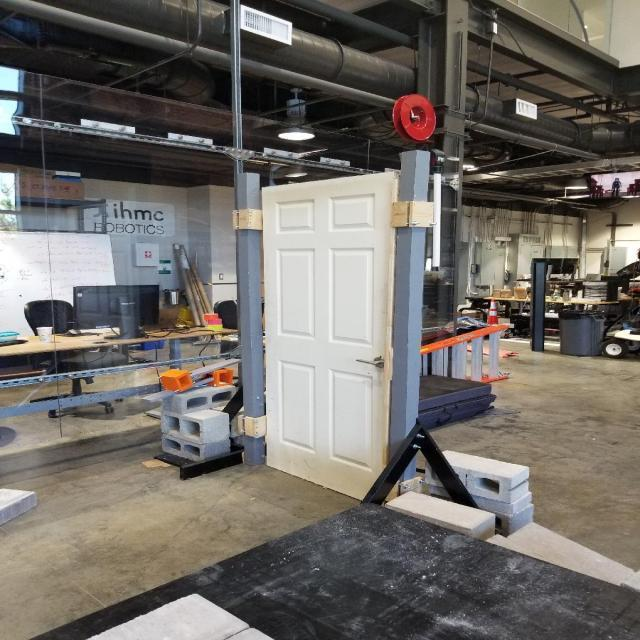door: (260, 168, 402, 520), (352, 351, 388, 369)
